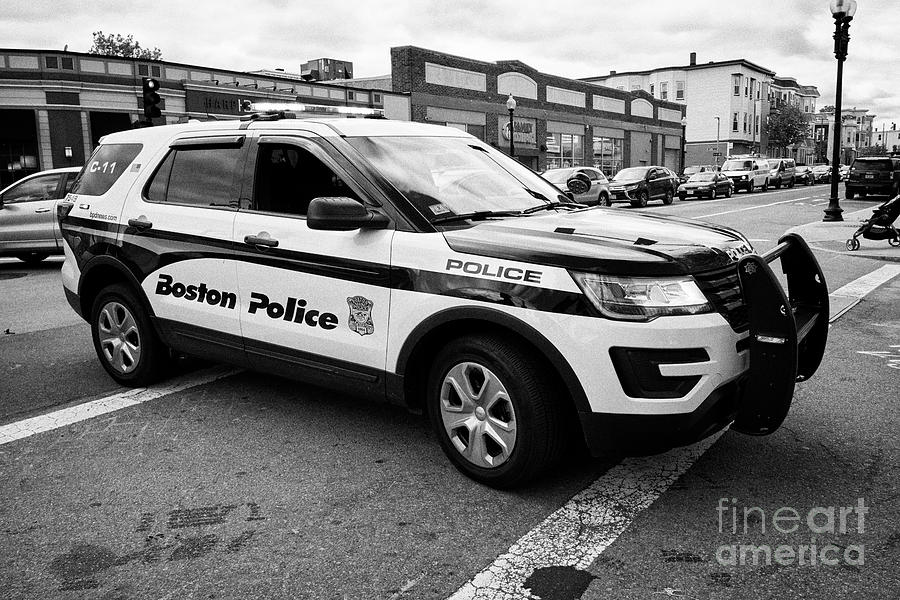Car: (51, 113, 842, 484)
